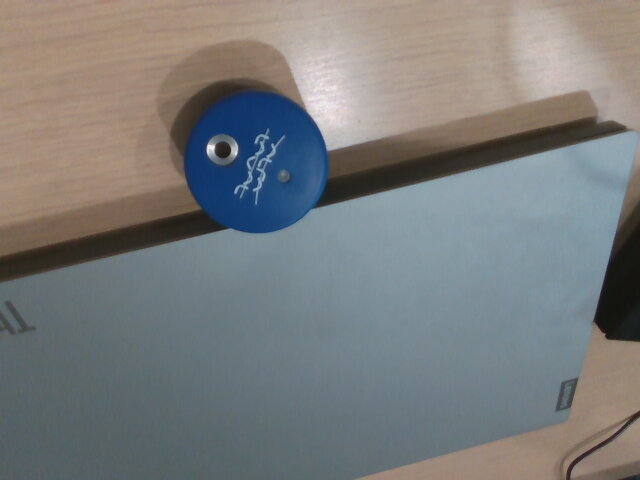alfa: (177, 86, 335, 238)
